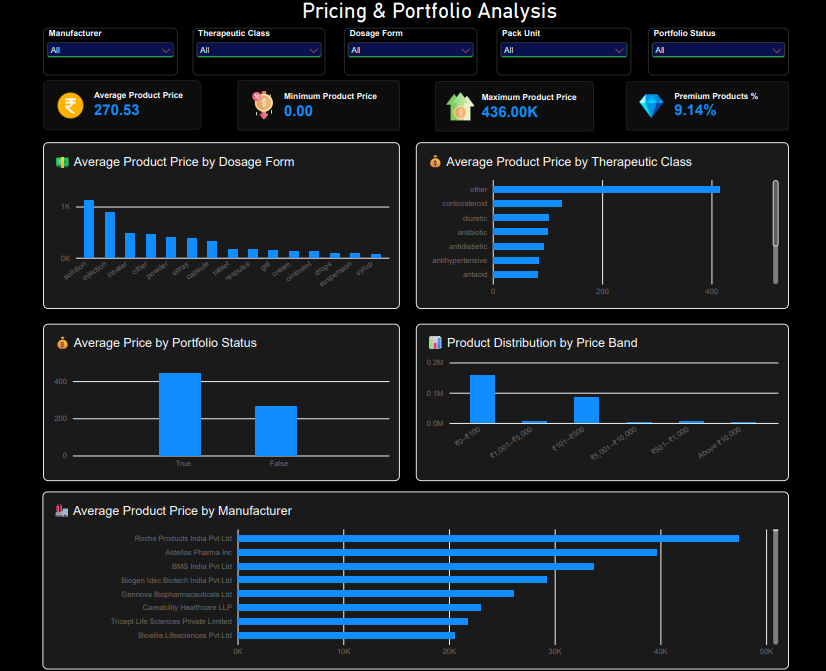

What the dashboard file says about the page in this screenshot:
{"tool":"powerbi","page":{"name":"02_Pricing_Portfolio_Analysis","canvas":[1920,1080],"ordinal":1},"visuals":[{"type":"cardVisual","fields":{"Data":["KPI_Measures.Average Product Price"]},"box":[368,130,253,79],"z":1000},{"type":"cardVisual","fields":{"Data":["KPI_Measures.Minimum Product Price"]},"box":[679,130,259,80],"z":2000},{"type":"cardVisual","fields":{"Data":["KPI_Measures.Maximum Product Price"]},"box":[995,131,253,80],"z":3000},{"type":"cardVisual","fields":{"Data":["KPI_Measures.Premium Products %"]},"box":[1300,131,260,79],"z":4000},{"type":"clusteredColumnChart","title":"💵 Average Product Price by Dosage Form","fields":{"Category":["Pharma_Products.Dosage_form"],"Y":["KPI_Measures.Average Product Price"]},"box":[368,229,570,266],"z":5000},{"type":"clusteredBarChart","title":"💰 Average Product Price by Therapeutic Class","fields":{"Category":["Pharma_Products.Therapeutic_class"],"Y":["KPI_Measures.Average Product Price"]},"box":[964,229,596,266],"z":6000},{"type":"clusteredColumnChart","title":"💰 Average Price by Portfolio Status","fields":{"Category":["Pharma_Products.Is_discontinued"],"Y":["KPI_Measures.Average Product Price"]},"box":[368,519,570,251],"z":7000},{"type":"clusteredColumnChart","title":"📊 Product Distribution by Price Band","fields":{"Category":["Pharma_Products.Price Band"],"Y":["KPI_Measures.Total Products"]},"box":[964,519,596,251],"z":8000},{"type":"clusteredBarChart","title":"🏭 Average Product Price by Manufacturer","fields":{"Category":["Pharma_Products.Manufacturer"],"Y":["KPI_Measures.Average Product Price"]},"box":[367,787,1193,284],"z":9000},{"type":"slicer","fields":{"Values":["Pharma_Products.Manufacturer"]},"box":[368,46,215,76],"z":10000},{"type":"slicer","fields":{"Values":["Pharma_Products.Therapeutic_class"]},"box":[607,46,212,76],"z":11000},{"type":"slicer","fields":{"Values":["Pharma_Products.Dosage_form"]},"box":[849,46,213,76],"z":12000},{"type":"slicer","fields":{"Values":["Pharma_Products.Pack_unit"]},"box":[1093,46,215,76],"z":13000},{"type":"slicer","fields":{"Values":["Pharma_Products.Is_discontinued"]},"box":[1335,46,225,76],"z":14000},{"type":"textbox","box":[742,0,488,46],"z":14001}]}

Visuals, with their boxes on the page's 1920x1080 design canvas (x1, y1, x2, y2). These are canvas units, not pixel positions in the 826x671 screenshot, which may show the page scaled, cropped or inside an application window:
cardVisual - KPI_Measures.Average Product Price: BBox(368, 130, 621, 209)
cardVisual - KPI_Measures.Minimum Product Price: BBox(679, 130, 938, 210)
cardVisual - KPI_Measures.Maximum Product Price: BBox(995, 131, 1248, 211)
cardVisual - KPI_Measures.Premium Products %: BBox(1300, 131, 1560, 210)
"💵 Average Product Price by Dosage Form" clusteredColumnChart: BBox(368, 229, 938, 495)
"💰 Average Product Price by Therapeutic Class" clusteredBarChart: BBox(964, 229, 1560, 495)
"💰 Average Price by Portfolio Status" clusteredColumnChart: BBox(368, 519, 938, 770)
"📊 Product Distribution by Price Band" clusteredColumnChart: BBox(964, 519, 1560, 770)
"🏭 Average Product Price by Manufacturer" clusteredBarChart: BBox(367, 787, 1560, 1071)
slicer - Pharma_Products.Manufacturer: BBox(368, 46, 583, 122)
slicer - Pharma_Products.Therapeutic_class: BBox(607, 46, 819, 122)
slicer - Pharma_Products.Dosage_form: BBox(849, 46, 1062, 122)
slicer - Pharma_Products.Pack_unit: BBox(1093, 46, 1308, 122)
slicer - Pharma_Products.Is_discontinued: BBox(1335, 46, 1560, 122)
textbox: BBox(742, 0, 1230, 46)
